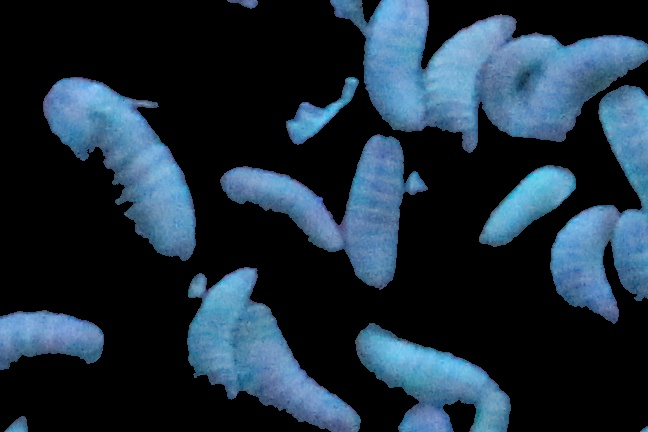larvae: (42, 77, 199, 260), (229, 298, 363, 432), (425, 15, 517, 152), (186, 255, 261, 414), (532, 38, 648, 140), (357, 326, 501, 405), (218, 162, 341, 253), (548, 205, 638, 325), (344, 126, 405, 296), (473, 167, 578, 253), (364, 1, 426, 144), (482, 35, 561, 142), (1, 307, 104, 373), (595, 84, 646, 203), (607, 210, 648, 305)
